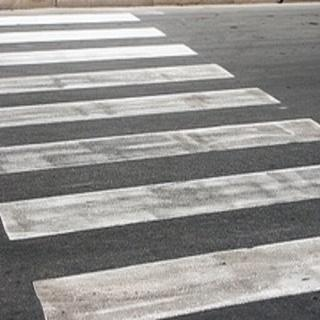road_crosswalk: (2, 0, 319, 313)
